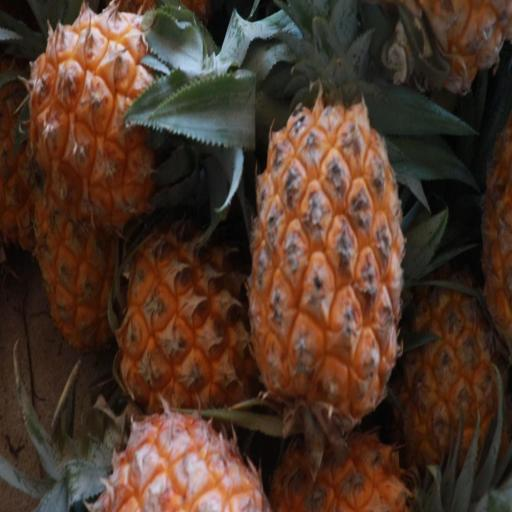Pineapple - v8 v1: (247, 86, 409, 450), (18, 0, 228, 248), (107, 214, 267, 438), (390, 248, 512, 491)
